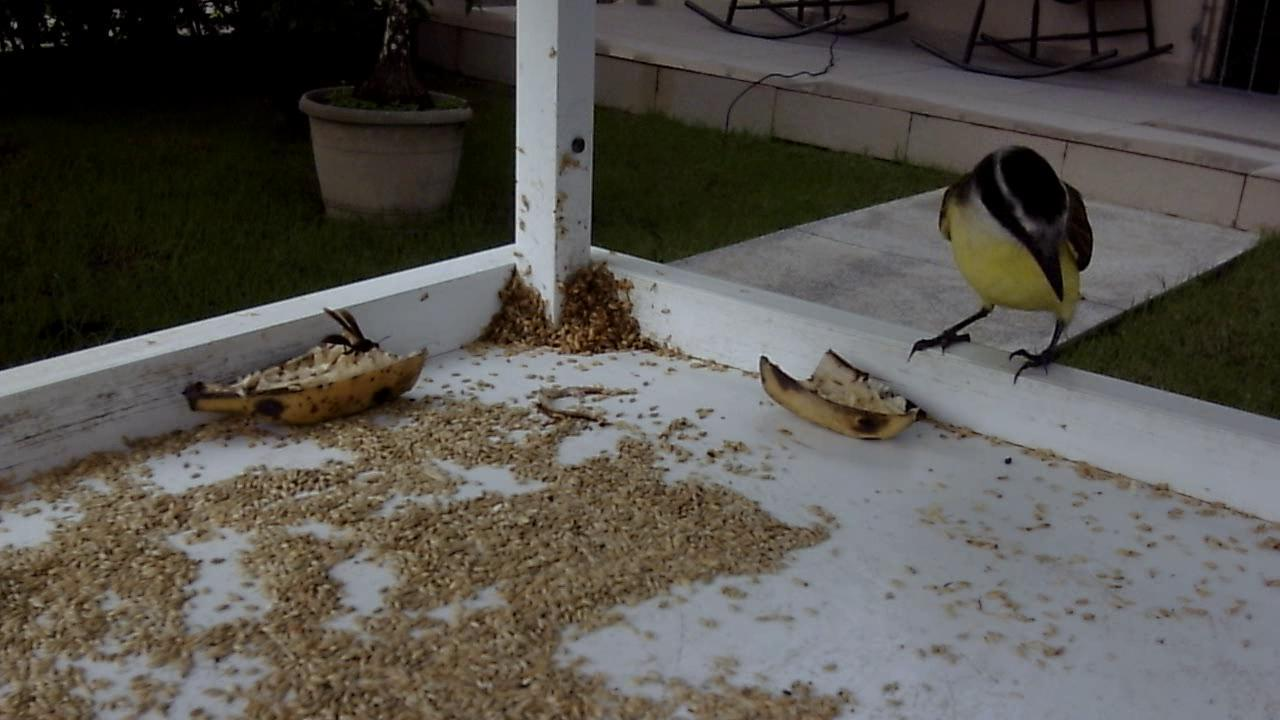bem_te_vi: (895, 129, 1108, 393)
